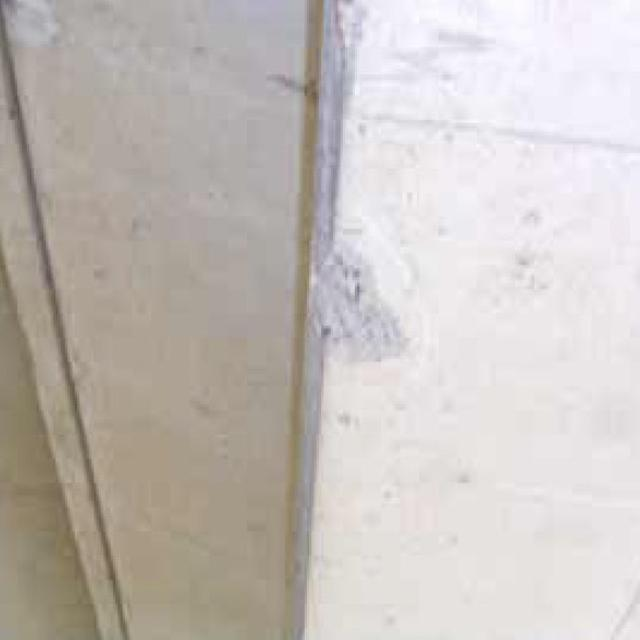spalling: (287, 227, 416, 380)
